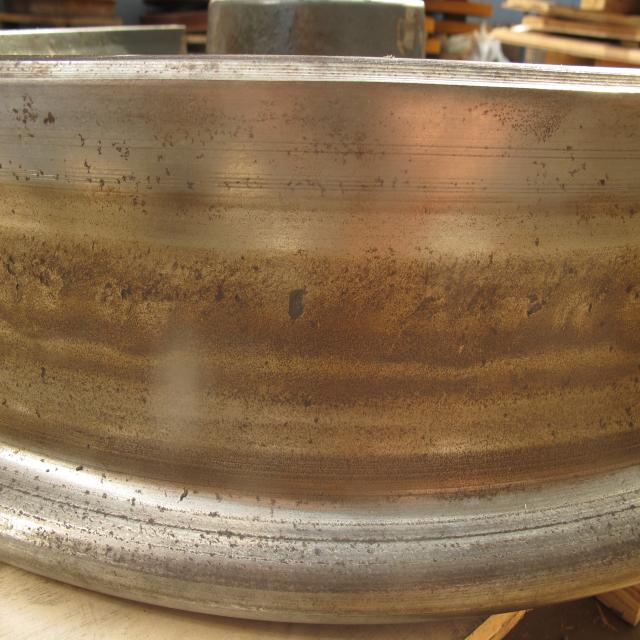Contact_Fatigue_Cracks: (414, 285, 550, 322), (117, 272, 246, 310), (3, 254, 64, 300), (287, 283, 307, 324)
